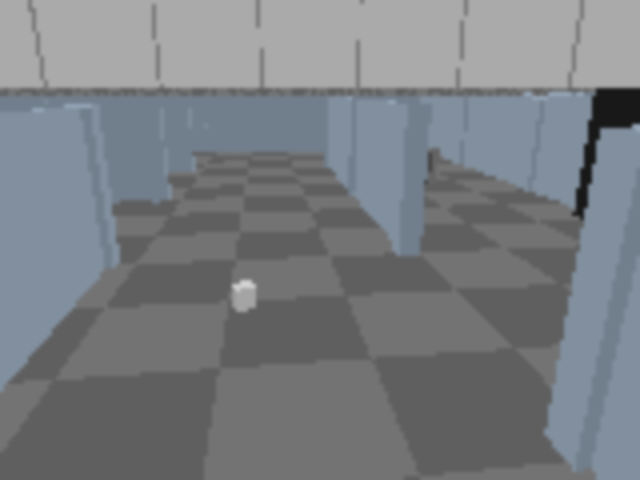puck: (231, 280, 257, 312)
